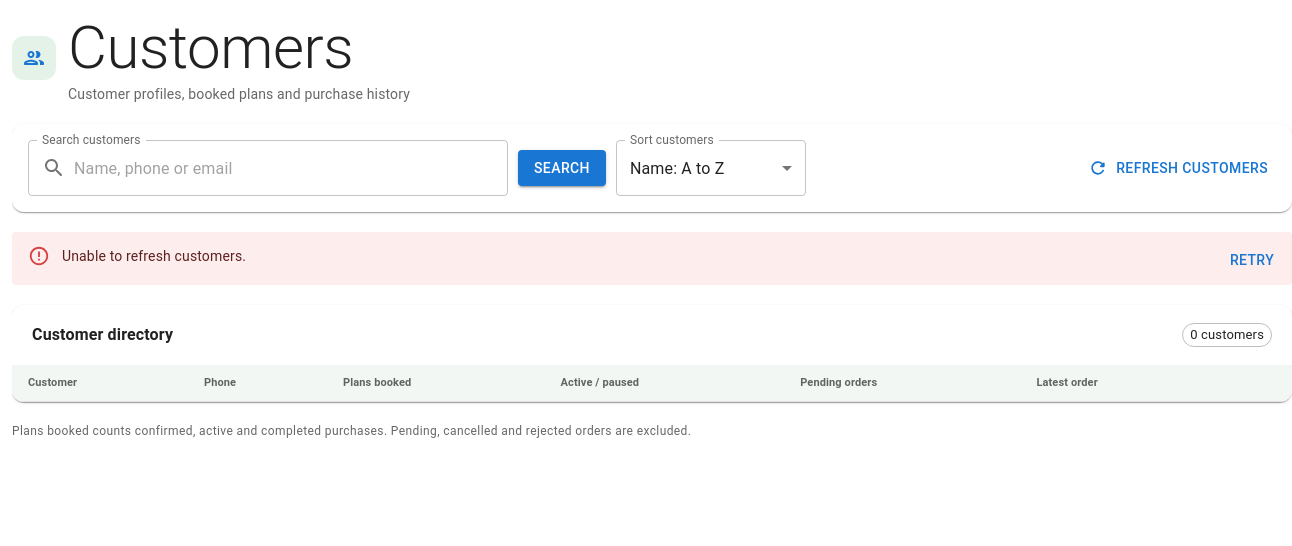
Test: keeps errors retryable and does not invent empty customer data
Expected: the message shows "Unable to refresh customers", [62,248,246,264]
Expected: the text "No customer profiles yet." is not shown
What coordinates should you click on to do the following:
click the button "Retry"
I would click on:
 (1252, 260)
Its box is [1220,242,1284,278].
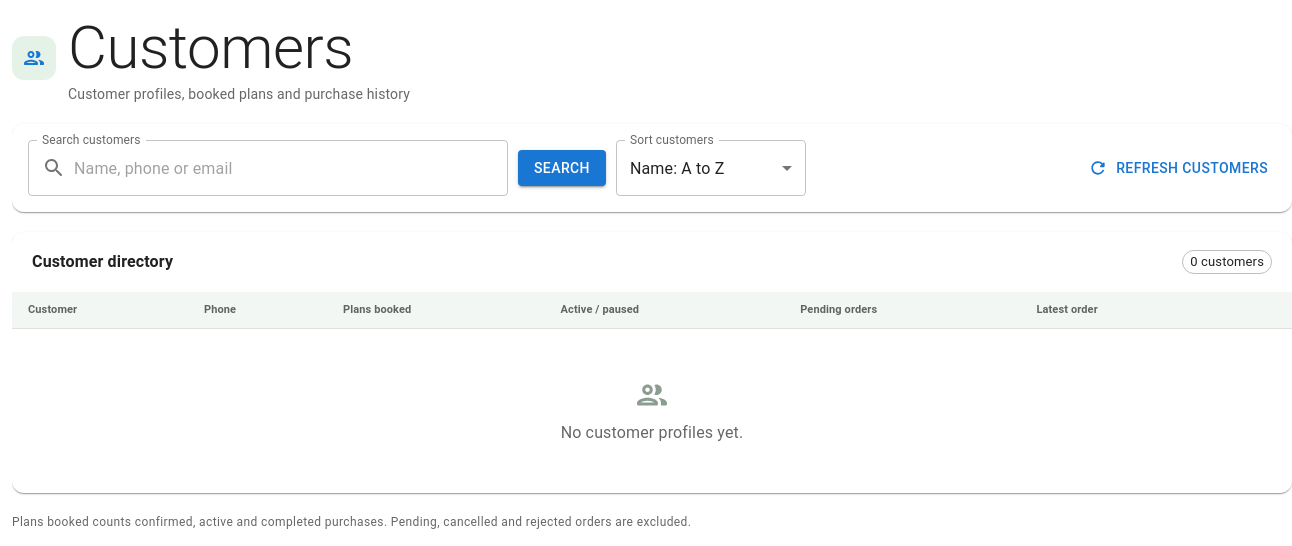
Expected: the text "No customer profiles yet." is shown, [561,421,743,445]
